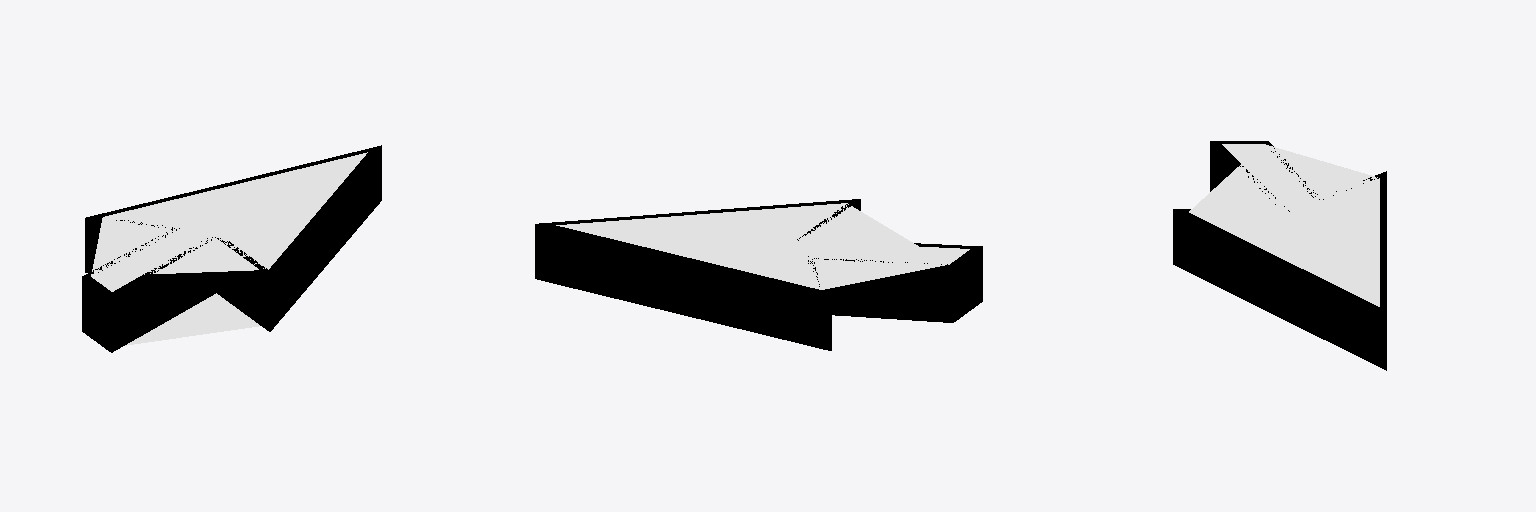
File: mouseCursor.obj
3 renders of one model, left to right at view 1: azimuth 30°, elevation 25°; view 2: azimuth 150°, elevation 25°; view 3: azimuth 270°, elevation 25°, orthographic.
Visible parts, largest first — view 1: Mesh1 Model polySurface1; view 2: Mesh1 Model polySurface1; view 3: Mesh1 Model polySurface1.
Part boxes in pixels (left/top/right/bottom): Mesh1 Model polySurface1: left=82, top=145, right=381, bottom=352; Mesh1 Model polySurface1: left=535, top=199, right=982, bottom=350; Mesh1 Model polySurface1: left=1173, top=141, right=1386, bottom=370.
Size of the model in its own units: 0.3467 by 0.0509 by 0.1792.